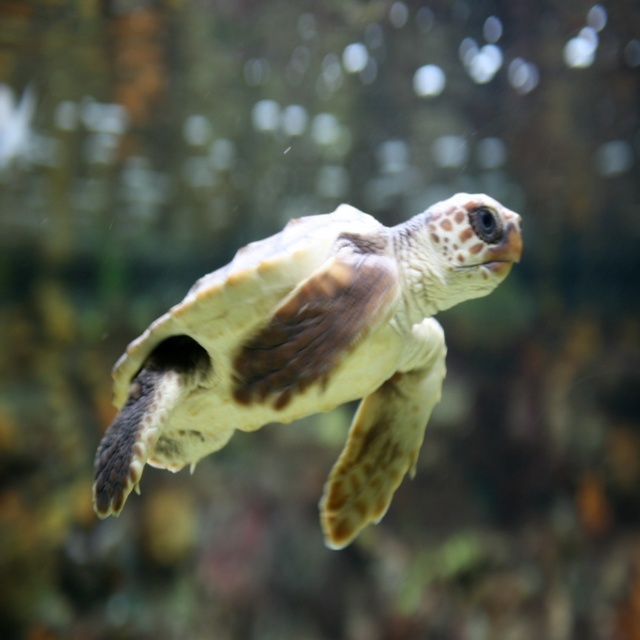Sea turtle: (85, 188, 523, 561)
